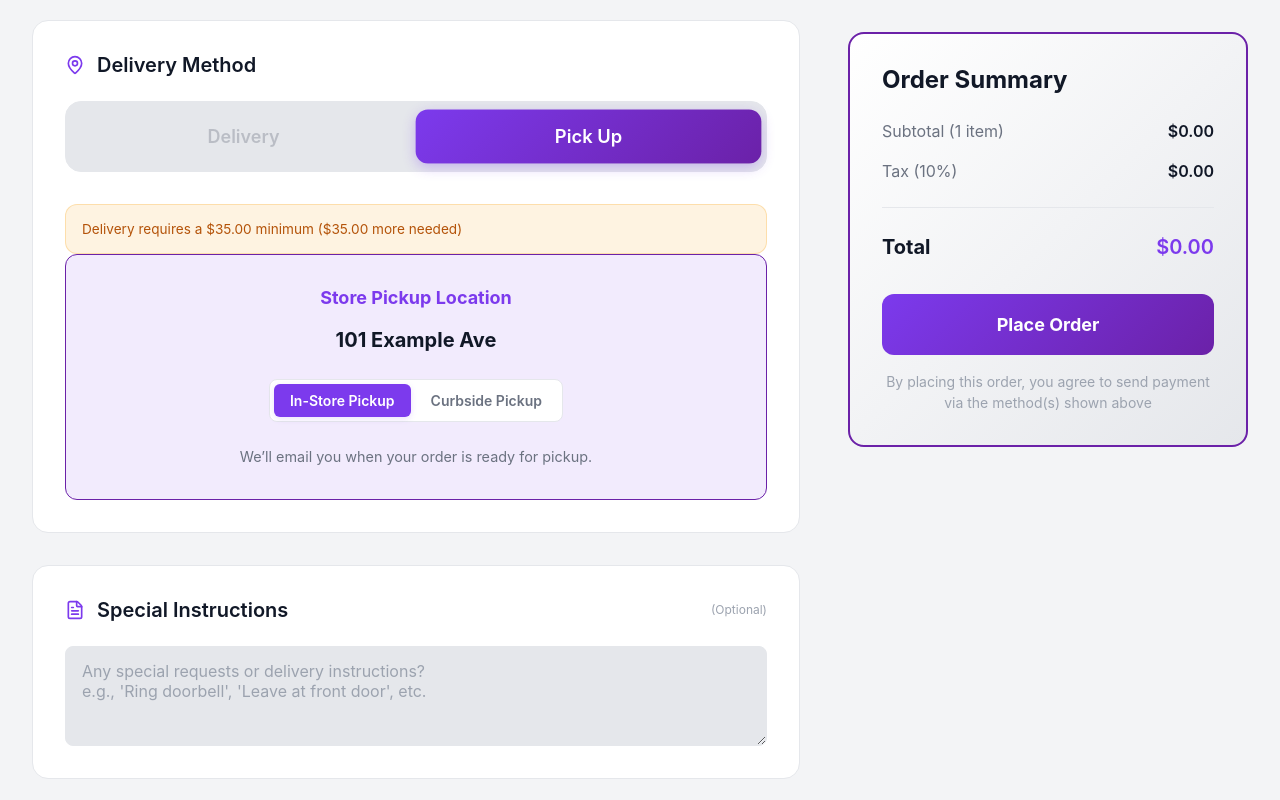
it: CheckoutPage › Curbside Pickup option › validates curbside details before placing order
This screenshot has width=1280, height=800.
(page scrolled)
Toggle Curbside
Click the button "Curbside Pickup" at (486, 400), box left=415, top=384, right=558, bottom=417
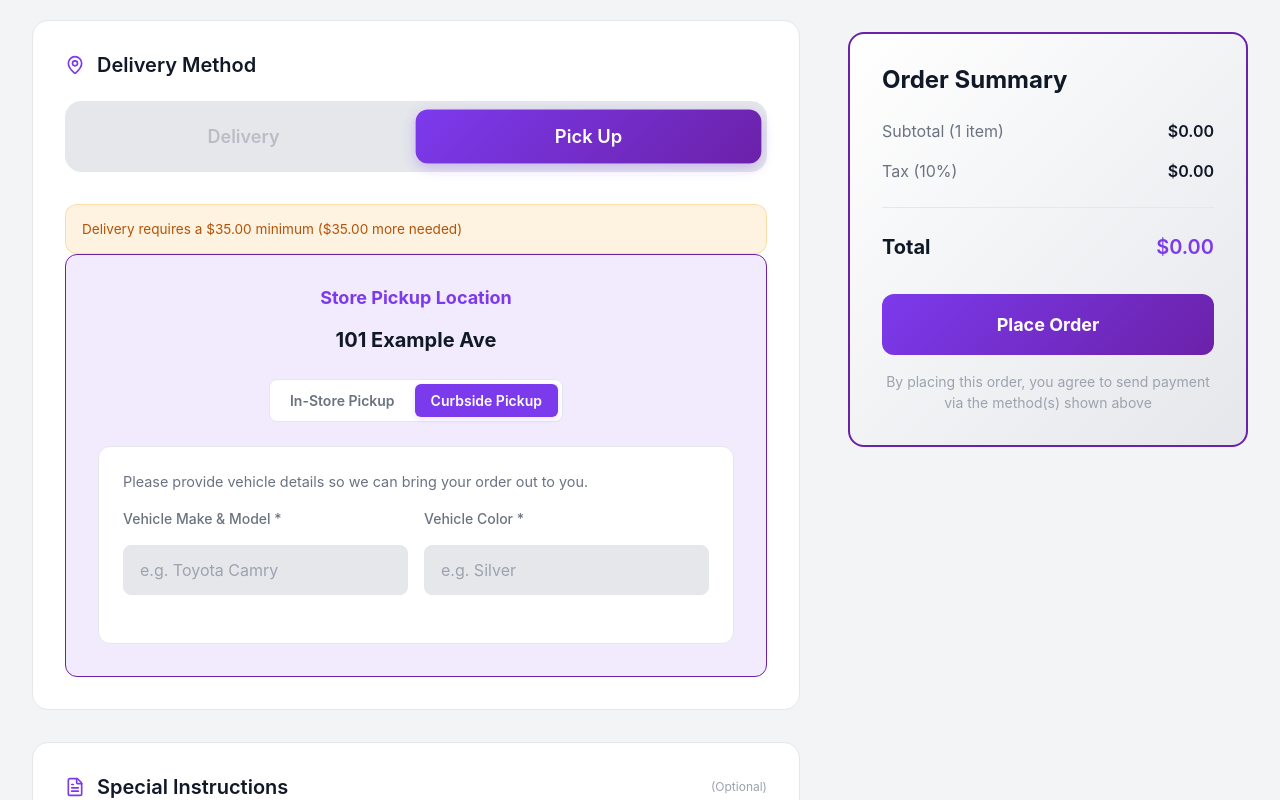
Leave fields empty and click submit
Click the button "Place Order" at (1048, 324), box left=882, top=294, right=1214, bottom=355
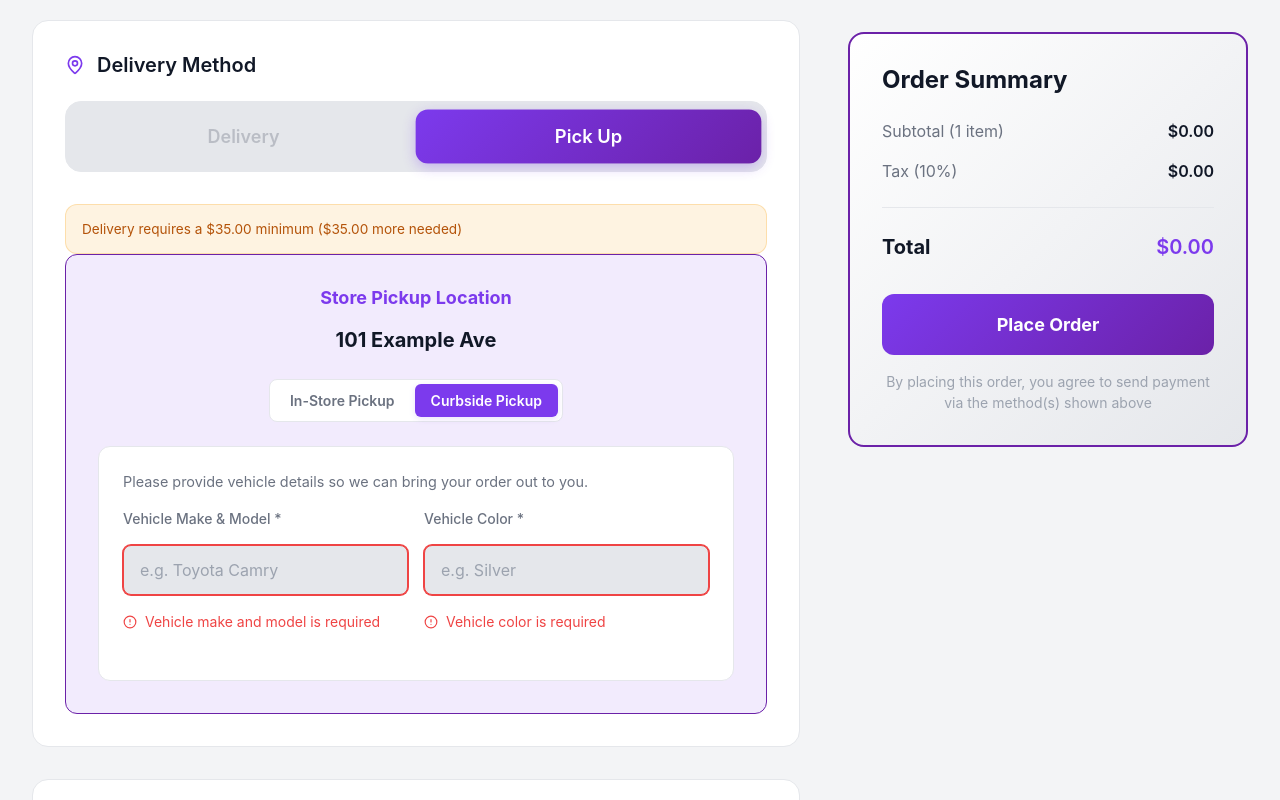
Expected: the text "Vehicle make and model is required" is shown, left=123, top=611, right=408, bottom=632
Expected: the text "Vehicle color is required" is shown, left=424, top=613, right=606, bottom=630
